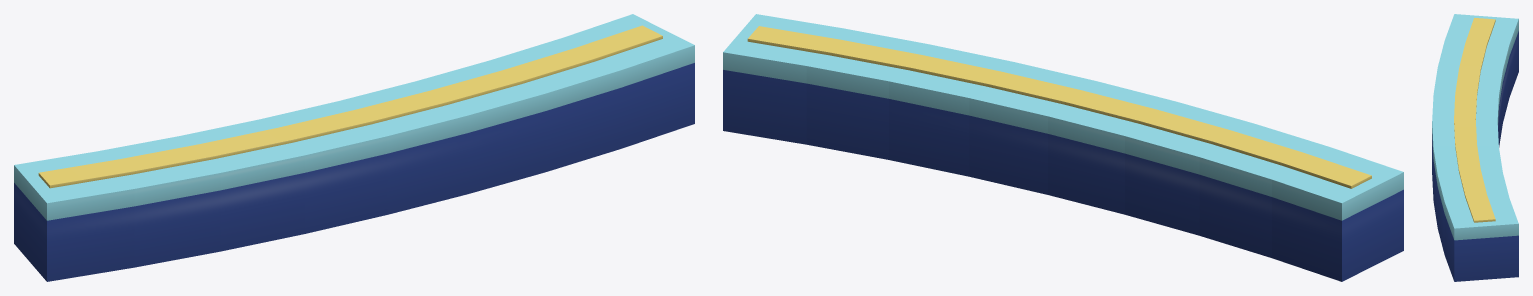
File: HubCurbSegment.fbx
3 renders of one model, left to right at view 1: azimuth 30°, elevation 25°; view 2: azimuth 150°, elevation 25°; view 3: azimuth 270°, elevation 25°, orthographic. The views are drawn at different scales.
Visible parts, largest first — view 1: HubCurbSegment; view 2: HubCurbSegment; view 3: HubCurbSegment.
Boxes of the visible parts, left/top/right/bottom form: HubCurbSegment: left=14, top=14, right=694, bottom=281; HubCurbSegment: left=723, top=14, right=1403, bottom=281; HubCurbSegment: left=1432, top=14, right=1518, bottom=281.
Bounding box in the file's own units: 11.63 × 1.4 × 1.99.
1 material, 1 textured.
